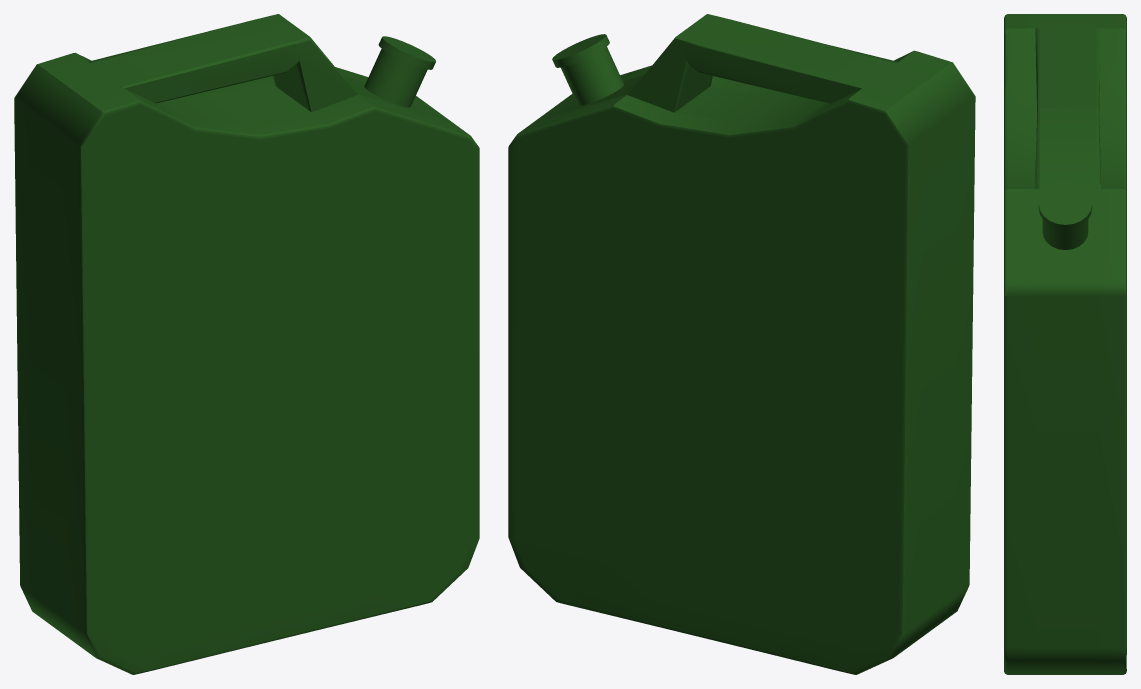
Rendered from canister.fbx.
3 renders of one model, left to right at view 1: azimuth 30°, elevation 25°; view 2: azimuth 150°, elevation 25°; view 3: azimuth 270°, elevation 25°, orthographic. The views are drawn at different scales.
Parts seen in each view (by area): view 1: canister; view 2: canister; view 3: canister.
Part boxes in pixels (x1,y1,x2,y2): canister: (14, 14, 479, 674); canister: (508, 14, 975, 674); canister: (1004, 14, 1126, 674).
Size of the model in its own units: 3.21 by 4.42 by 0.9453.
